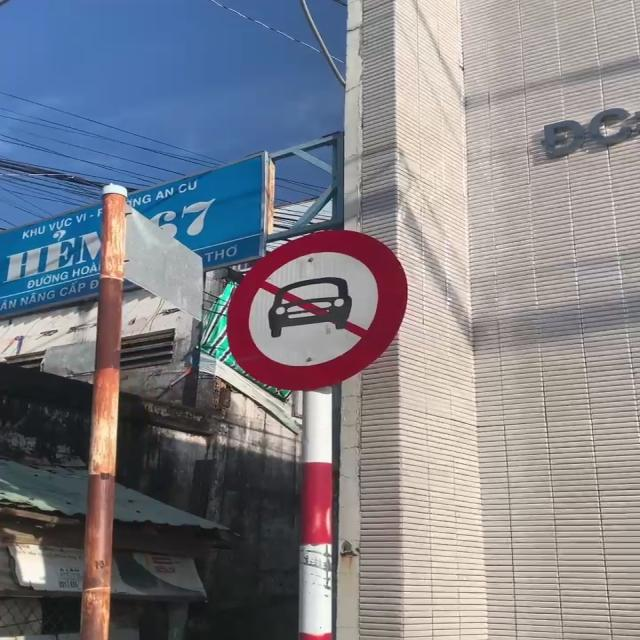Cam_O_To: (218, 227, 414, 394)
